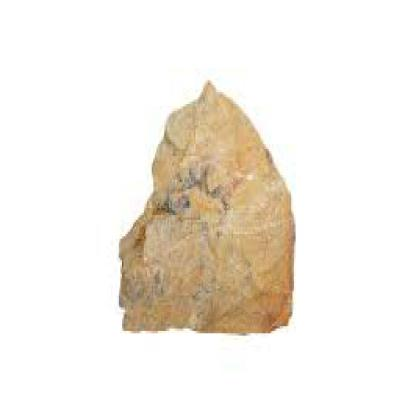Metamorphic_Quartize: (115, 64, 306, 347)
